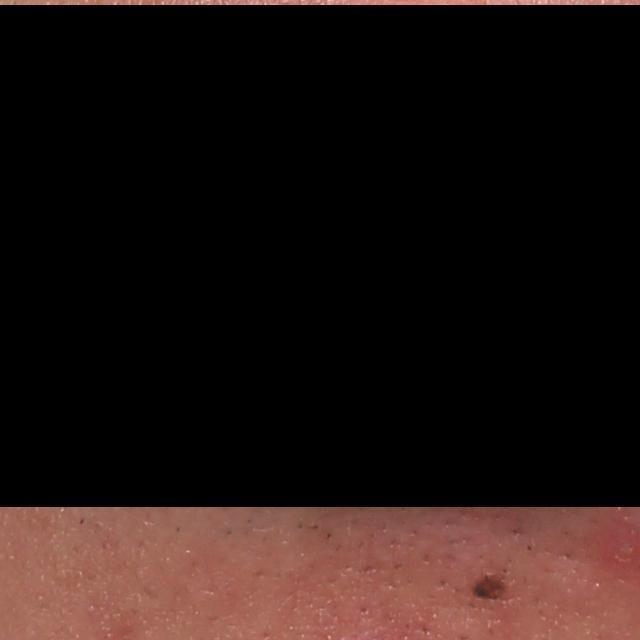nevus: (466, 560, 515, 610)
